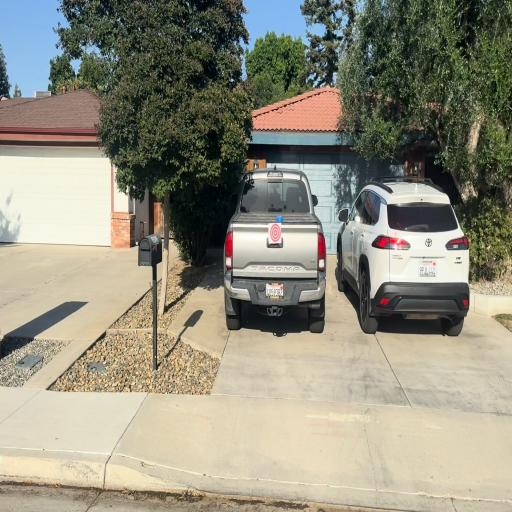bullseye: (269, 223, 281, 243)
